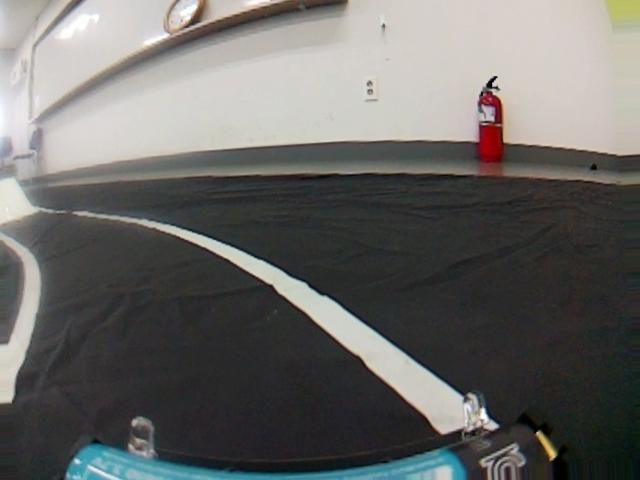left: (0, 206, 581, 479)
